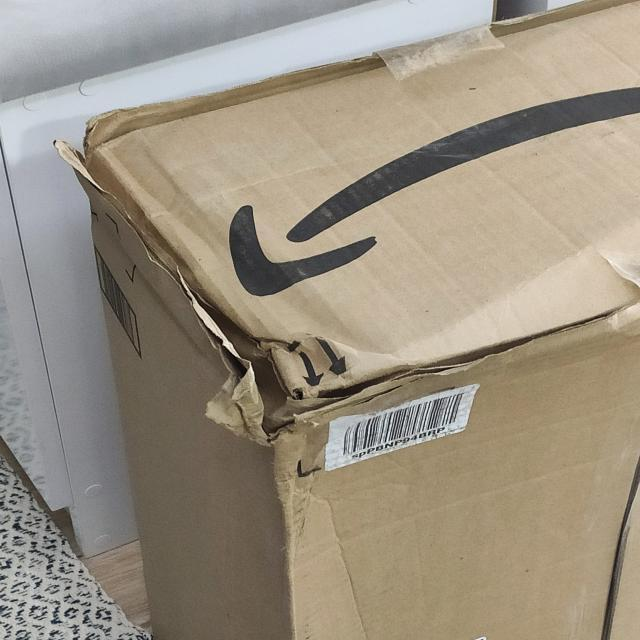hole: (211, 323, 340, 445)
